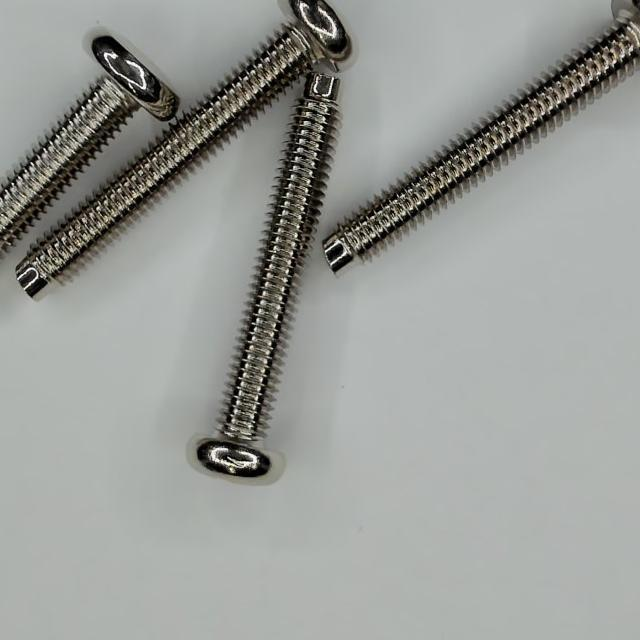Screw: (16, 0, 352, 296), (323, 0, 640, 272), (196, 72, 339, 478), (1, 36, 178, 254)
